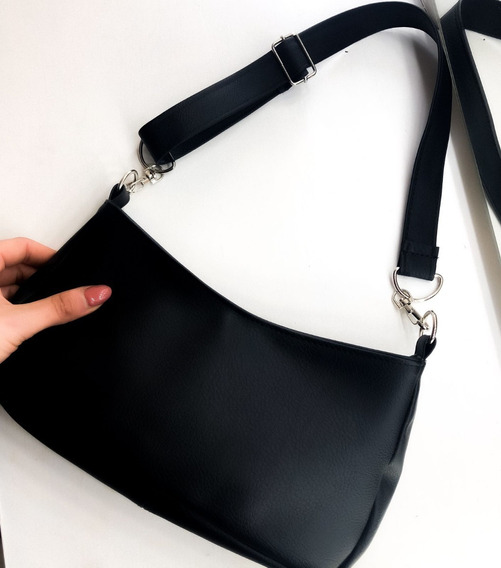cartera: (1, 170, 439, 568)
